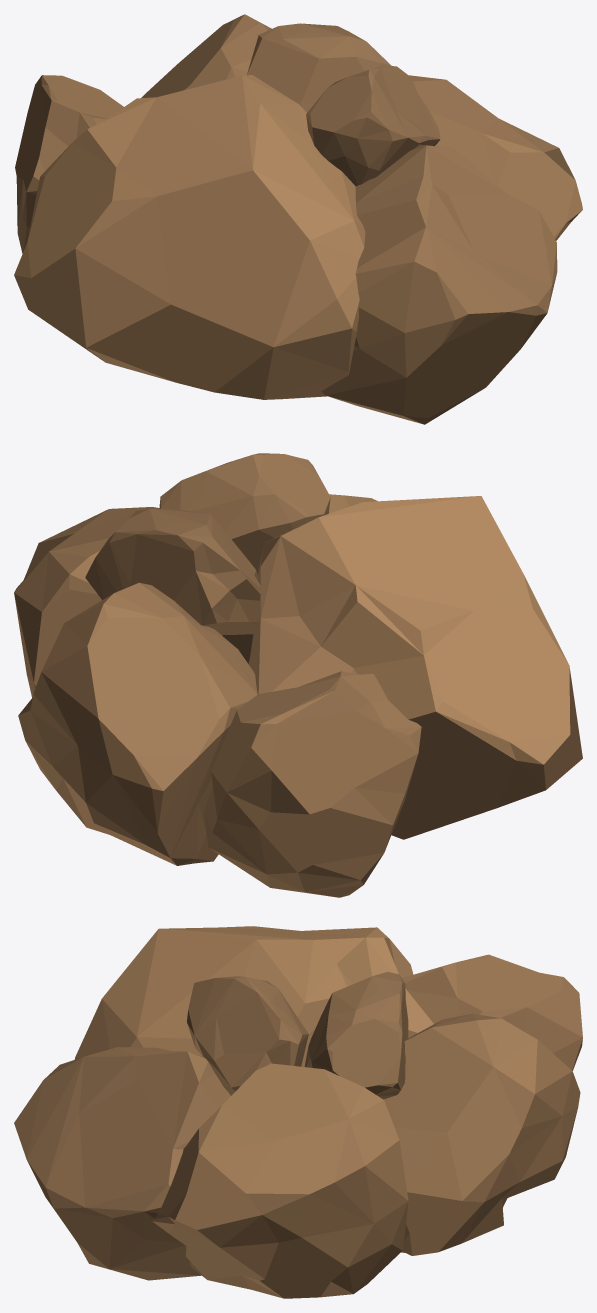
File: rocks.gltf
3 views of the same model, one above another, from view 1: azimuth 30°, elevation 25°; view 2: azimuth 150°, elevation 25°; view 3: azimuth 270°, elevation 25° (orthographic). The views are drawn at different scales.
Visible parts, largest first — view 1: Cube.002, Cube.001, Cube.003, Cube.004, Cube.007, Cube.006, Cube.005; view 2: Cube.002, Cube.005, Cube.006, Cube.007, Cube.004, Cube.003, Cube.001; view 3: Cube.003, Cube.005, Cube.001, Cube.002, Cube.006, Cube.004, Cube.007.
Part boxes in pixels (x1,y1,x2,y2): Cube.002: [14, 75, 365, 399]; Cube.001: [321, 144, 557, 424]; Cube.003: [409, 75, 582, 240]; Cube.004: [306, 65, 440, 186]; Cube.007: [247, 23, 391, 112]; Cube.006: [15, 75, 123, 253]; Cube.005: [141, 14, 271, 98]; Cube.002: [248, 496, 582, 839]; Cube.005: [18, 582, 257, 865]; Cube.006: [204, 671, 421, 897]; Cube.007: [85, 508, 260, 634]; Cube.004: [159, 453, 330, 574]; Cube.003: [14, 507, 221, 697]; Cube.001: [222, 494, 377, 663]; Cube.003: [152, 1063, 408, 1298]; Cube.005: [384, 1013, 580, 1255]; Cube.001: [14, 1047, 230, 1280]; Cube.002: [74, 926, 433, 1066]; Cube.006: [402, 954, 582, 1070]; Cube.004: [187, 976, 308, 1095]; Cube.007: [304, 972, 408, 1099].
Bounding box in the file's own units: 4.67 × 2.69 × 4.62.
